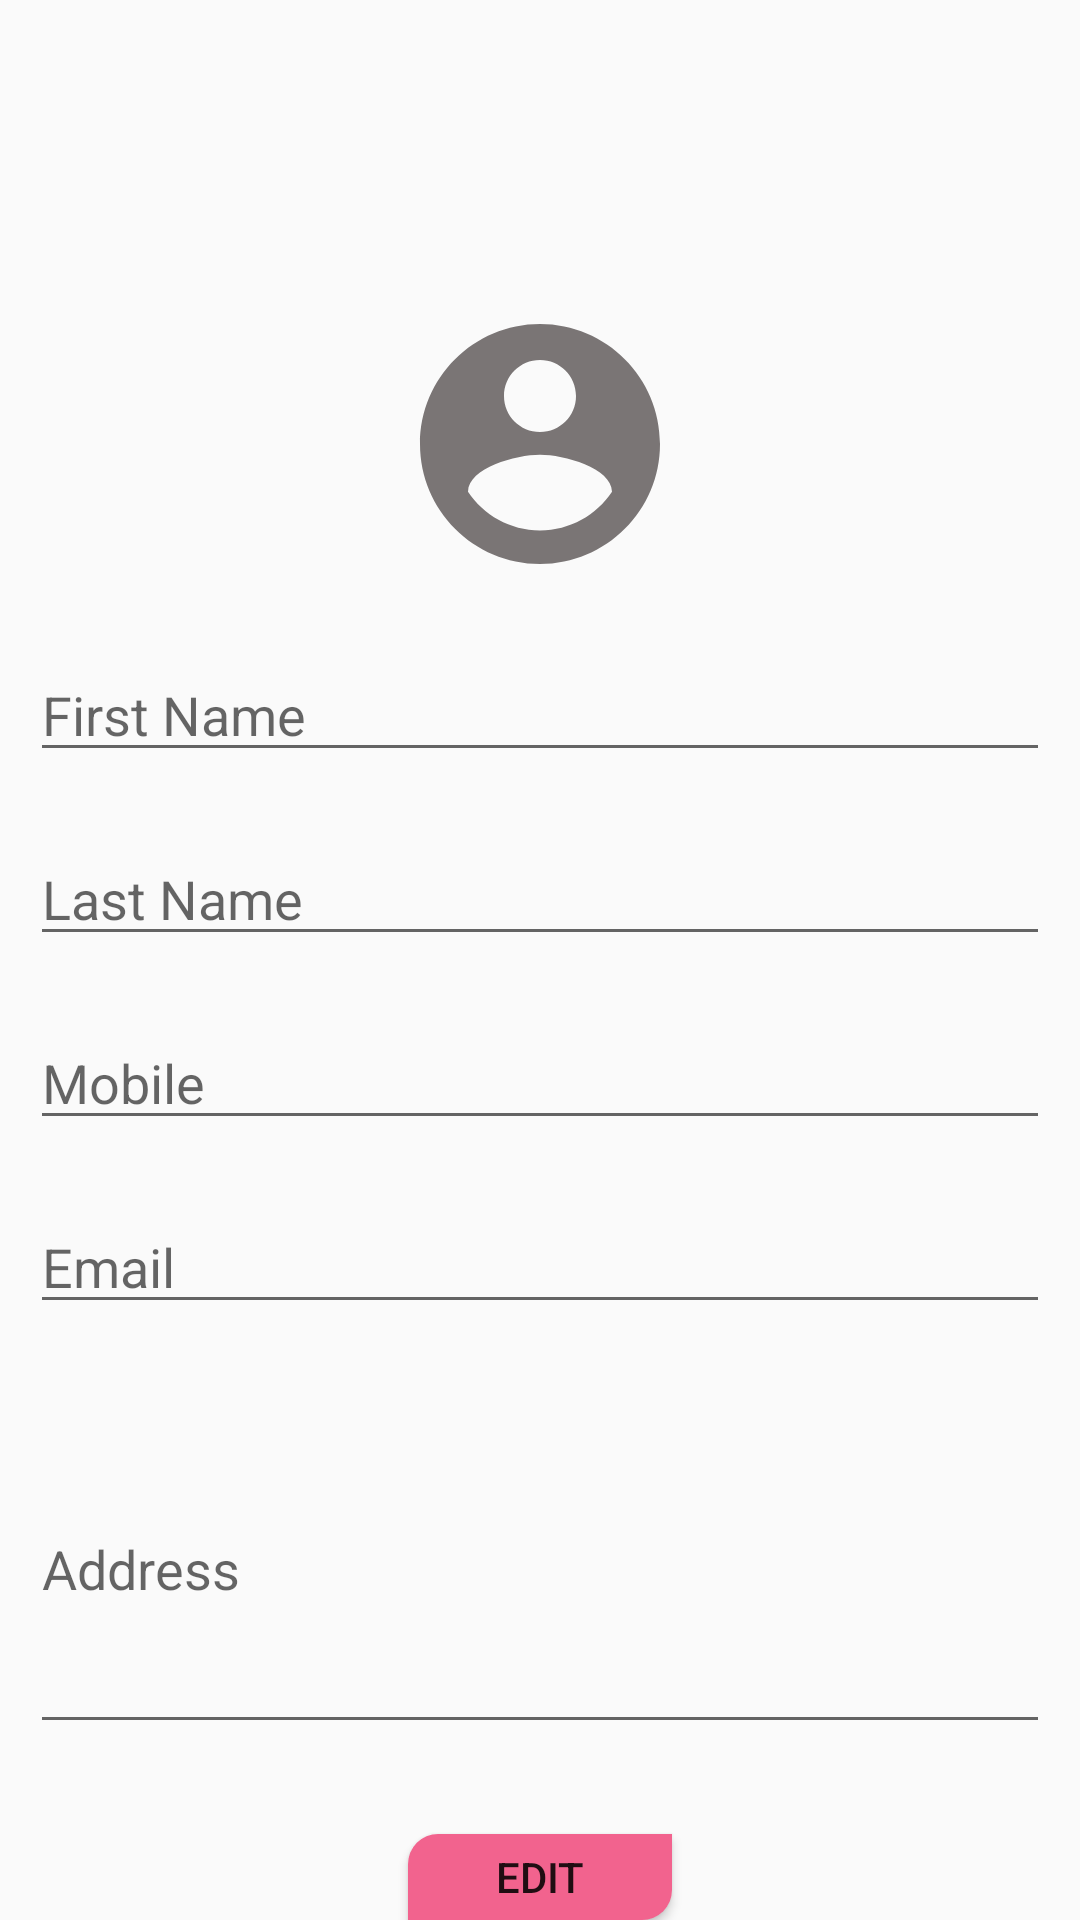

Where icons sit on this 1080px×1920px app screen, as (x1, y1, x2, y2):
profile: (420, 324, 660, 564)
